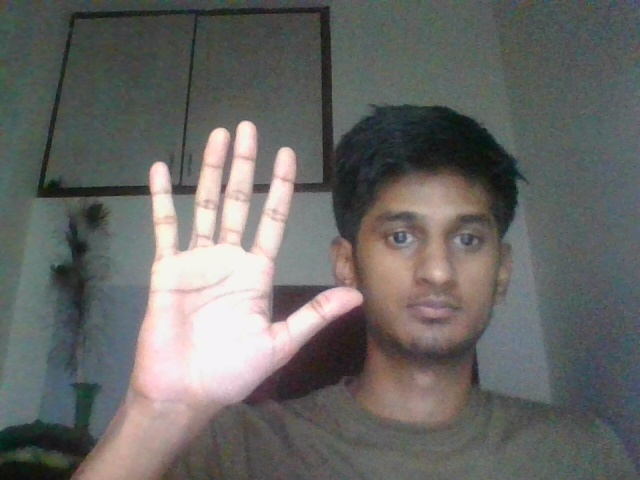Hello: (106, 111, 368, 448)
